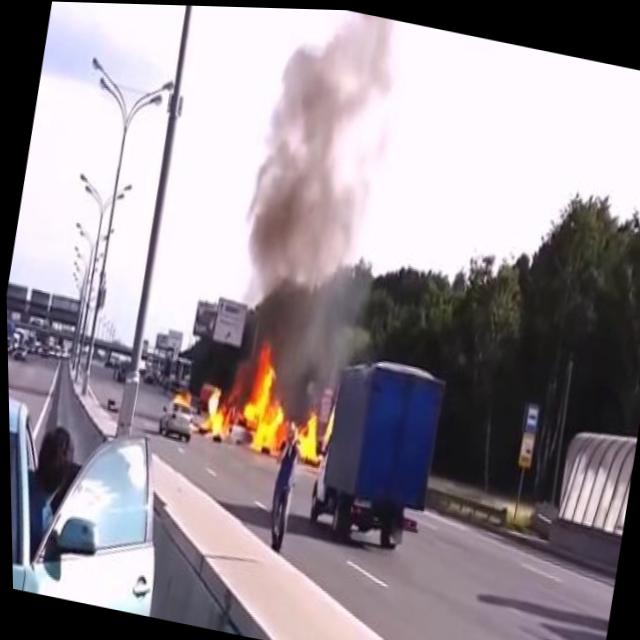fire: (192, 339, 334, 472)
